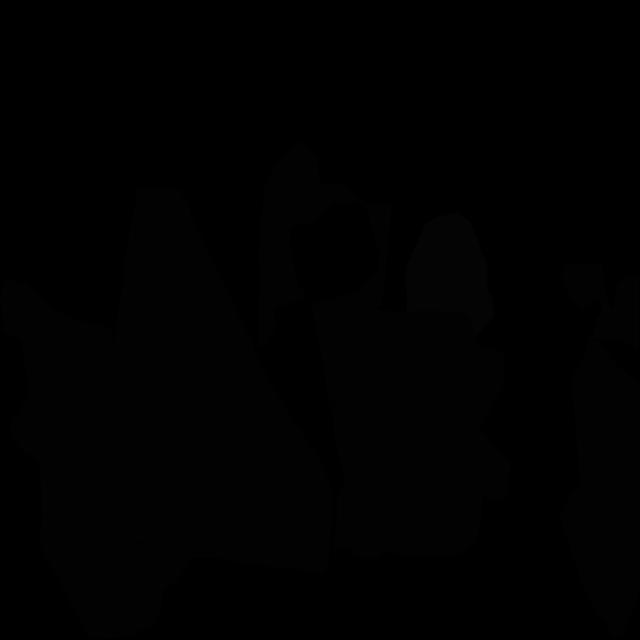cardboard: (91, 185, 332, 575), (0, 279, 190, 639), (332, 308, 511, 560), (258, 140, 392, 416), (560, 339, 640, 640), (588, 273, 639, 353), (559, 263, 610, 331)
soft_plastic: (405, 212, 494, 337)
